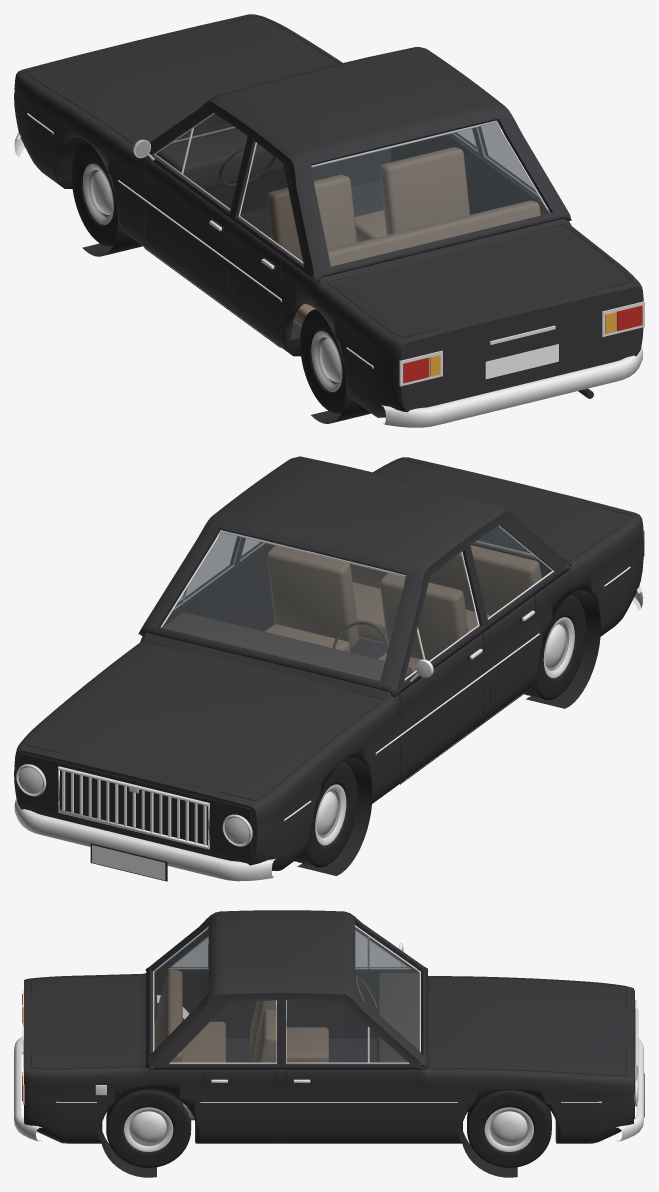
Rendered from volga.glb.
3 views of the same model, one above another, from view 1: azimuth 30°, elevation 25°; view 2: azimuth 150°, elevation 25°; view 3: azimuth 270°, elevation 25° (orthographic). The views are drawn at different scales.
Visible parts, largest first — view 1: body, glass, seat, chrome, inside, black, tyre, plate, tail; view 2: body, glass, seat, chrome, black, inside, tyre, plate, lamp; view 3: body, glass, chrome, tyre, seat, black, inside.
Boxes of the visible parts, x1=… form: body: x1=14, y1=14, x2=643, y2=417; glass: x1=135, y1=114, x2=564, y2=278; seat: x1=267, y1=147, x2=540, y2=341; chrome: x1=14, y1=113, x2=644, y2=427; inside: x1=156, y1=129, x2=284, y2=190; black: x1=25, y1=15, x2=632, y2=423; tyre: x1=71, y1=141, x2=346, y2=413; plate: x1=485, y1=344, x2=558, y2=379; tail: x1=403, y1=305, x2=642, y2=383; body: x1=14, y1=456, x2=644, y2=870; glass: x1=145, y1=526, x2=551, y2=695; seat: x1=265, y1=545, x2=541, y2=672; chrome: x1=14, y1=525, x2=644, y2=881; black: x1=19, y1=459, x2=632, y2=881; inside: x1=162, y1=612, x2=412, y2=680; tyre: x1=294, y1=595, x2=586, y2=867; plate: x1=92, y1=845, x2=165, y2=880; lamp: x1=19, y1=767, x2=249, y2=843; body: x1=24, y1=910, x2=633, y2=1143; glass: x1=154, y1=925, x2=419, y2=1062; chrome: x1=14, y1=925, x2=643, y2=1151; tyre: x1=106, y1=1003, x2=551, y2=1167; seat: x1=154, y1=969, x2=328, y2=1120; black: x1=23, y1=974, x2=644, y2=1177; inside: x1=355, y1=972, x2=419, y2=1062.
Size of the model in its own units: 1.99 by 1.55 by 4.9.
